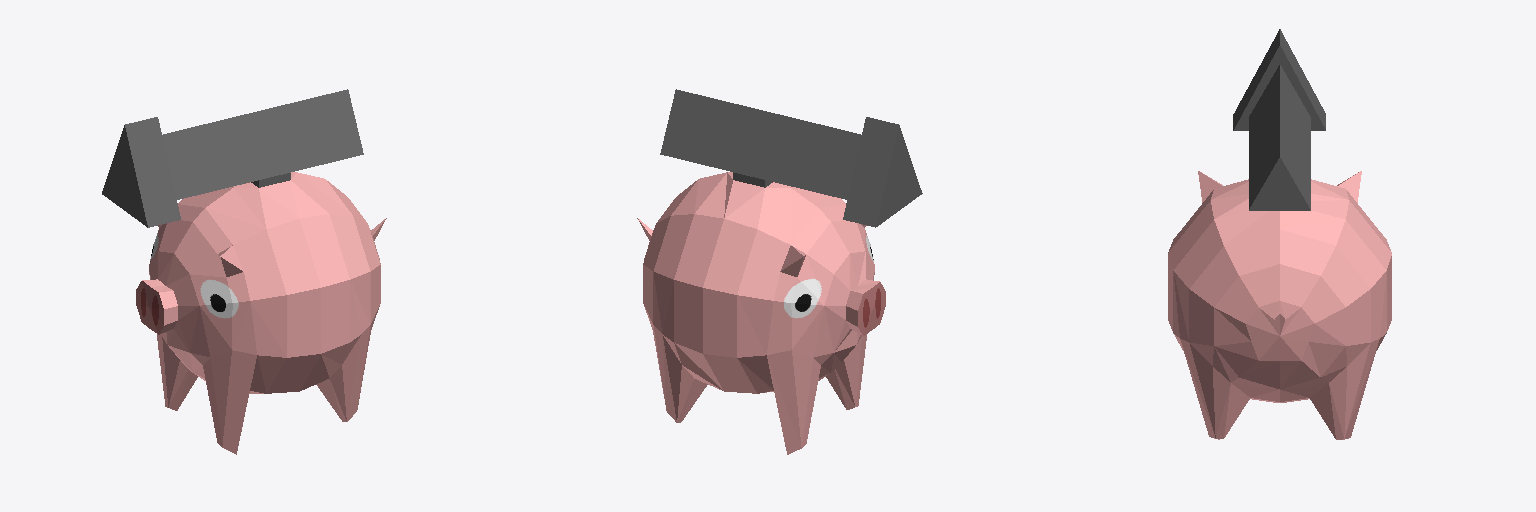
3 views of the same model, side by side, from view 1: azimuth 30°, elevation 25°; view 2: azimuth 150°, elevation 25°; view 3: azimuth 270°, elevation 25° (orthographic).
Visible parts, largest first — view 1: pSphere1; view 2: pSphere1; view 3: pSphere1.
Boxes of the visible parts, x1=… form: pSphere1: x1=102, y1=89, x2=386, y2=454; pSphere1: x1=637, y1=89, x2=922, y2=454; pSphere1: x1=1168, y1=29, x2=1391, y2=439.
Bounding box in the file's own units: 2.57 × 3.06 × 1.9.
1 materials, 1 textured.